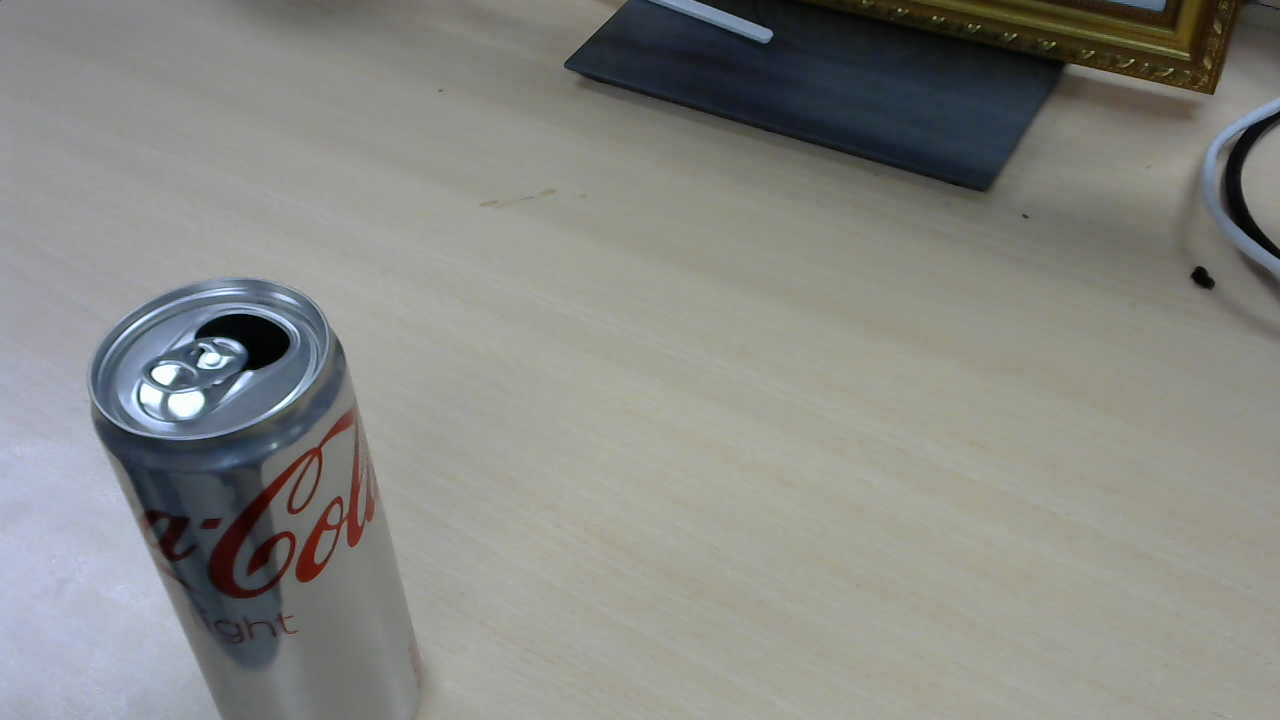Coca_Cola: (91, 280, 433, 708)
